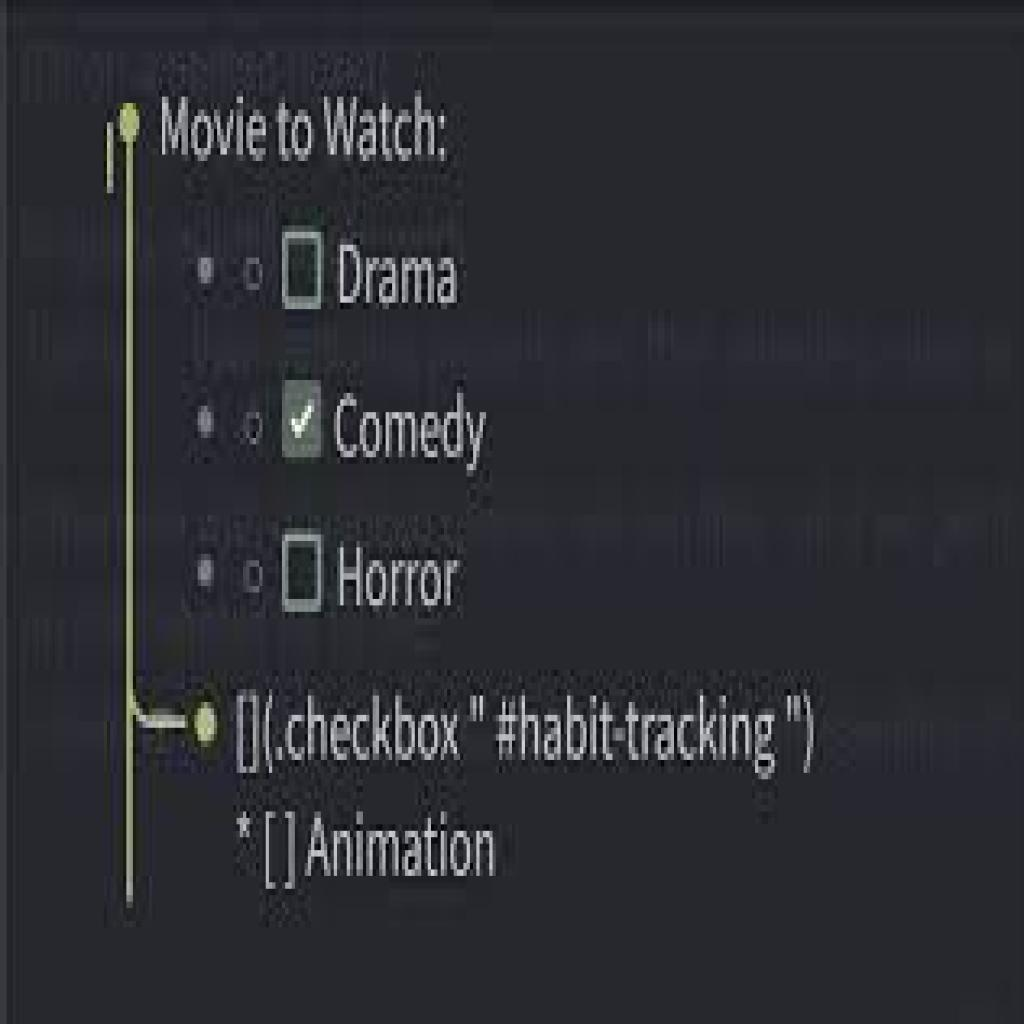checkbox: (281, 376, 327, 464), (284, 231, 328, 314), (285, 535, 325, 611)
